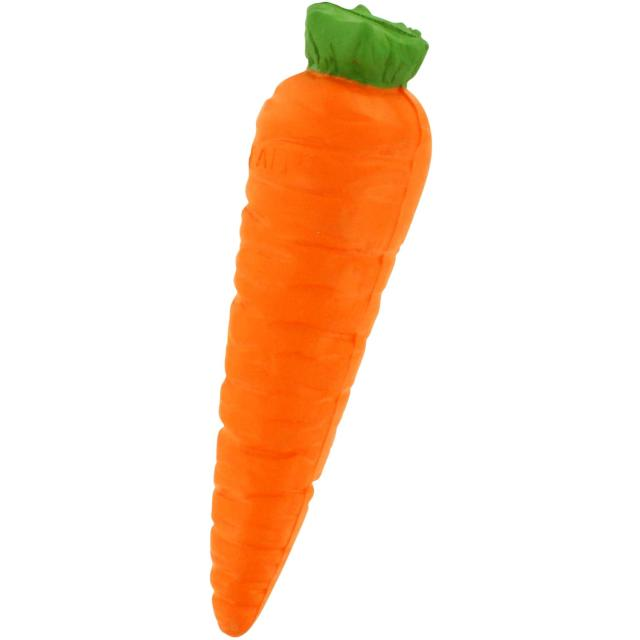Fresh_Carrot: (213, 75, 441, 633)
